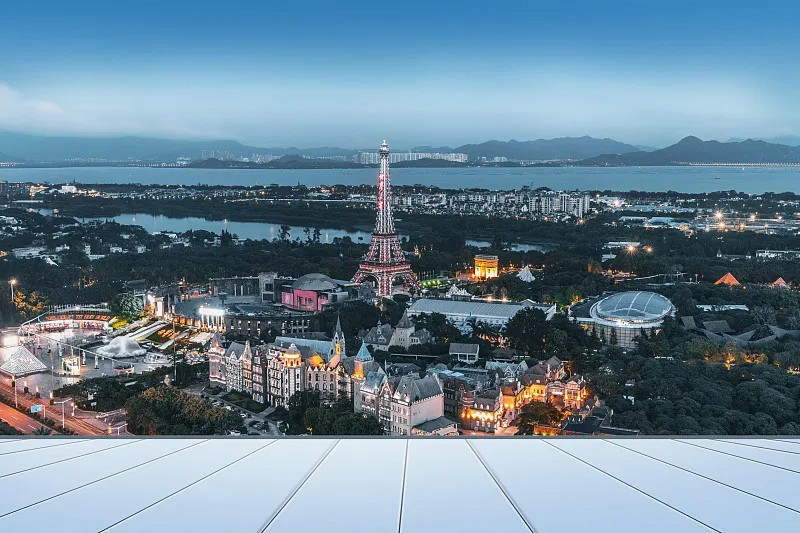Eiffel: (349, 138, 423, 298)
